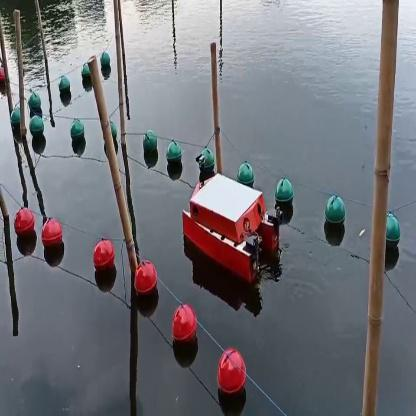green_buoy: (322, 192, 346, 236), (386, 213, 400, 256), (275, 180, 292, 208), (24, 92, 44, 114), (144, 130, 158, 161), (30, 116, 44, 146), (166, 142, 181, 169), (202, 141, 216, 169), (70, 116, 84, 144), (238, 161, 254, 182), (10, 112, 22, 138), (100, 54, 114, 74), (80, 66, 92, 88), (58, 75, 70, 95)
red_buoy: (218, 350, 245, 398), (174, 306, 196, 350), (92, 243, 118, 275), (41, 219, 64, 254), (134, 268, 158, 301), (15, 205, 35, 239)
